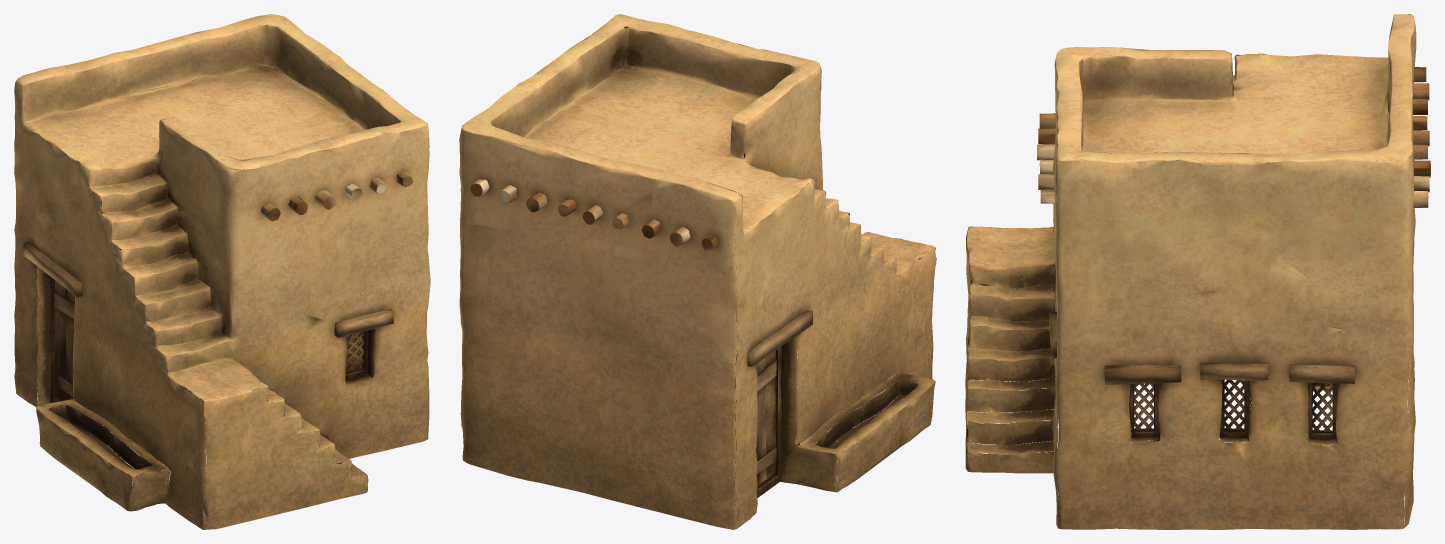
The model's file is wayhouse.glb.
The picture shows the model from 3 angles, left to right: view 1: azimuth 30°, elevation 25°; view 2: azimuth 150°, elevation 25°; view 3: azimuth 270°, elevation 25°; orthographic projection. The views are drawn at different scales.
Parts seen in each view (by area): view 1: Cube; view 2: Cube; view 3: Cube.
Boxes of the visible parts, bbox=[...] form: Cube: bbox=[14, 14, 430, 529]; Cube: bbox=[459, 14, 936, 529]; Cube: bbox=[965, 14, 1430, 529].
Bounding box in the file's own units: 4.69 × 4.57 × 5.18.
Materials: 1 (1 with a texture image).
